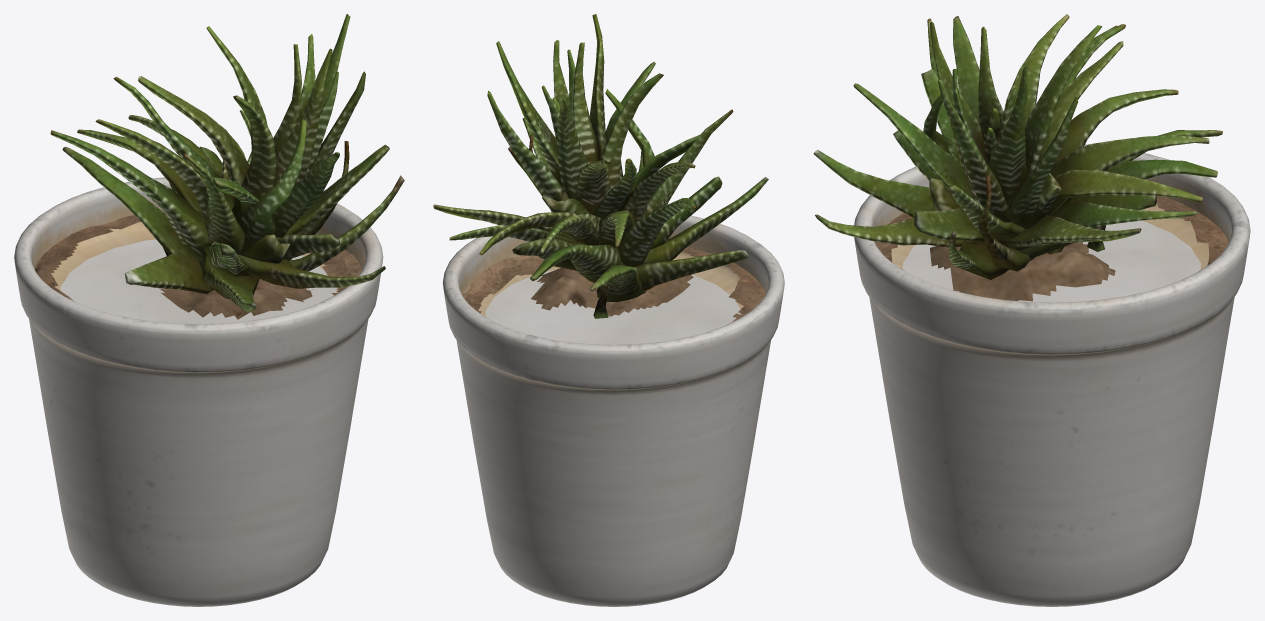
Rendered from potted_plant_04.glb.
3 renders of one model, left to right at view 1: azimuth 30°, elevation 25°; view 2: azimuth 150°, elevation 25°; view 3: azimuth 270°, elevation 25°, orthographic. The views are drawn at different scales.
Visible parts, largest first — view 1: potted_plant_04_pot, potted_plant_04_plant, potted_plant_04_dirt; view 2: potted_plant_04_pot, potted_plant_04_plant, potted_plant_04_dirt; view 3: potted_plant_04_pot, potted_plant_04_plant, potted_plant_04_dirt.
Part boxes in pixels (x1,y1,x2,y2): potted_plant_04_pot: [14, 177, 383, 606]; potted_plant_04_plant: [50, 14, 404, 311]; potted_plant_04_dirt: [34, 211, 362, 319]; potted_plant_04_pot: [443, 215, 784, 606]; potted_plant_04_plant: [433, 14, 768, 318]; potted_plant_04_dirt: [462, 247, 765, 322]; potted_plant_04_pot: [854, 144, 1250, 606]; potted_plant_04_plant: [813, 14, 1222, 279]; potted_plant_04_dirt: [875, 196, 1228, 301].
Size of the model in its own units: 0.1679 by 0.2675 by 0.1848.
1 material, 1 textured.
